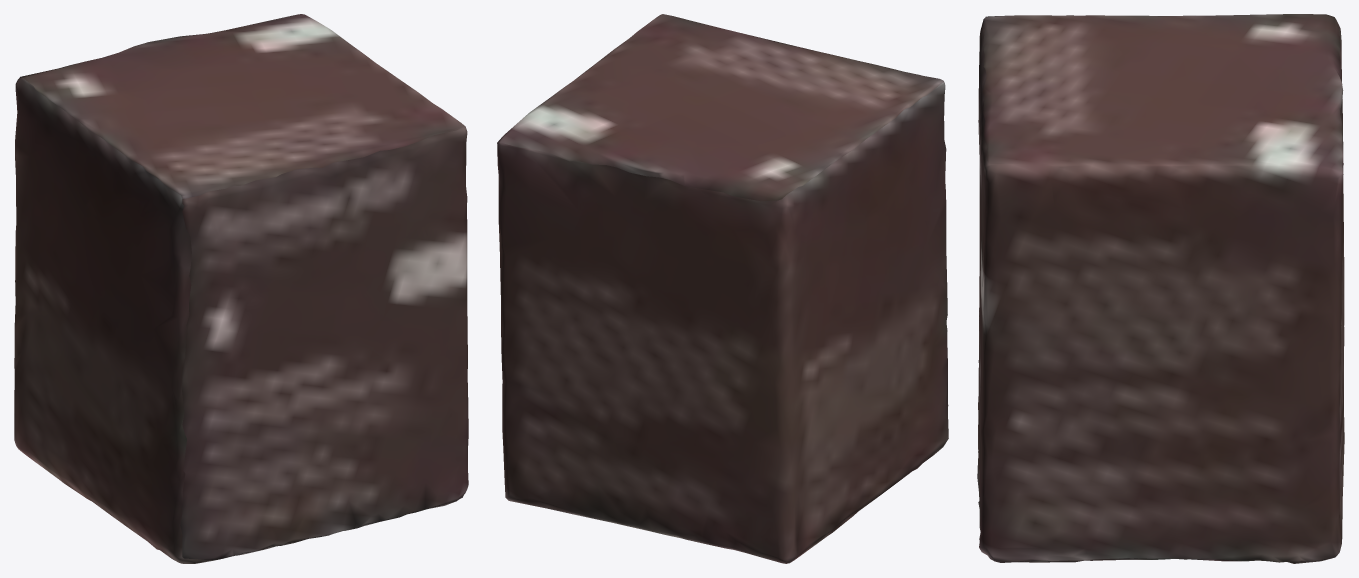
Rendered from Perricone_MD_Neuropeptide_Firming_Moisturizer-medium.glb.
3 renders of one model, left to right at view 1: azimuth 30°, elevation 25°; view 2: azimuth 150°, elevation 25°; view 3: azimuth 270°, elevation 25°, orthographic. The views are drawn at different scales.
Parts seen in each view (by area): view 1: Perricone_MD_Neuropeptide_Firming_Moisturizer; view 2: Perricone_MD_Neuropeptide_Firming_Moisturizer; view 3: Perricone_MD_Neuropeptide_Firming_Moisturizer.
Part boxes in pixels (x1=…): Perricone_MD_Neuropeptide_Firming_Moisturizer: x1=14, y1=14, x2=468, y2=563; Perricone_MD_Neuropeptide_Firming_Moisturizer: x1=497, y1=14, x2=948, y2=563; Perricone_MD_Neuropeptide_Firming_Moisturizer: x1=977, y1=14, x2=1344, y2=563.
Size of the model in its own units: 0.0609 by 0.0734 by 0.0602.
1 material, 1 textured.
